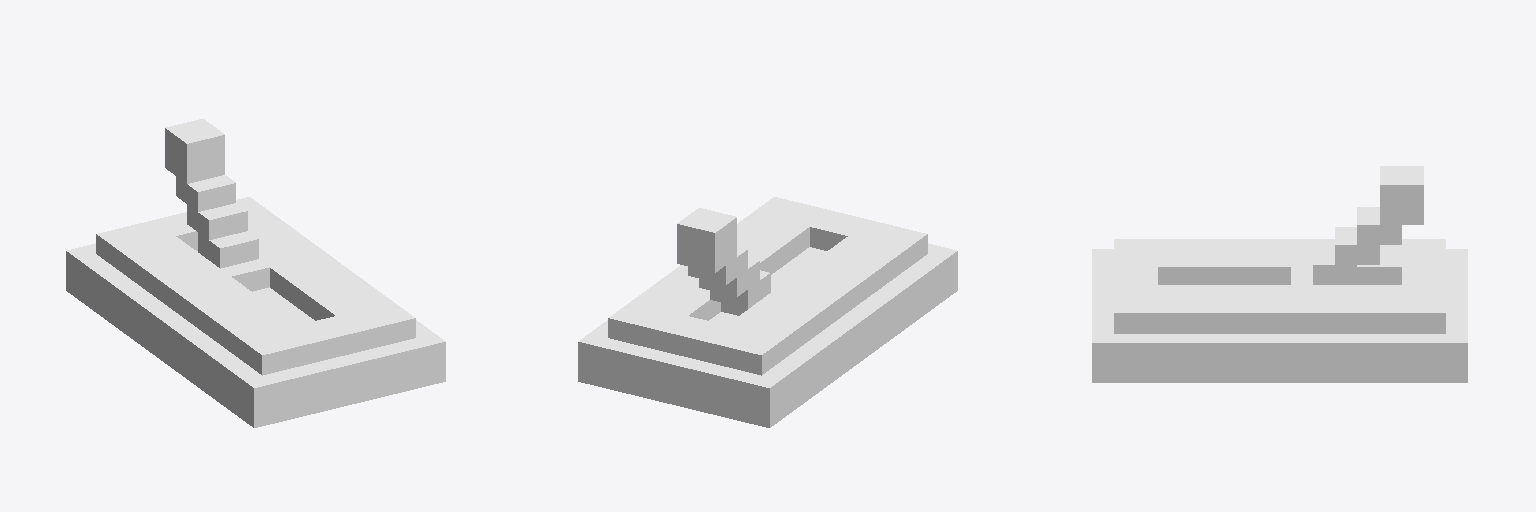
File: Palanca.obj
3 renders of one model, left to right at view 1: azimuth 30°, elevation 25°; view 2: azimuth 150°, elevation 25°; view 3: azimuth 270°, elevation 25°, orthographic.
Parts seen in each view (by area): view 1: object 1; view 2: object 1; view 3: object 1.
Part boxes in pixels (x1,y1,x2,y2): object 1: (66,119,445,427); object 1: (578,197,957,427); object 1: (1092,166,1467,382).
Bounding box in the file's own units: 1 × 0.8 × 1.7.